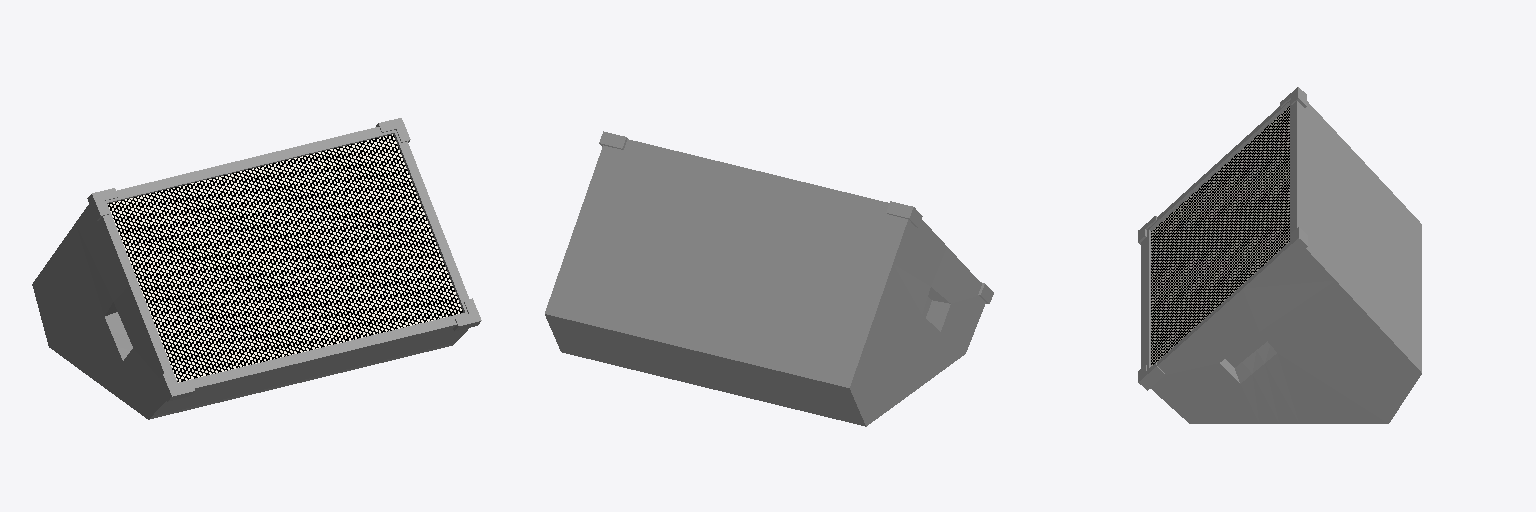
3 renders of one model, left to right at view 1: azimuth 30°, elevation 25°; view 2: azimuth 150°, elevation 25°; view 3: azimuth 270°, elevation 25°, orthographic.
Visible parts, largest first — view 1: Plane001, LowPoly_Speaker; view 2: LowPoly_Speaker; view 3: LowPoly_Speaker, Plane001.
Boxes of the visible parts, x1,y1,x2,y2 form: Plane001: [108, 134, 462, 382]; LowPoly_Speaker: [32, 118, 481, 419]; LowPoly_Speaker: [545, 131, 993, 426]; LowPoly_Speaker: [1138, 87, 1421, 423]; Plane001: [1151, 106, 1289, 365].
Size of the model in its own units: 65.06 by 37.55 by 51.67.
2 materials, 1 textured.